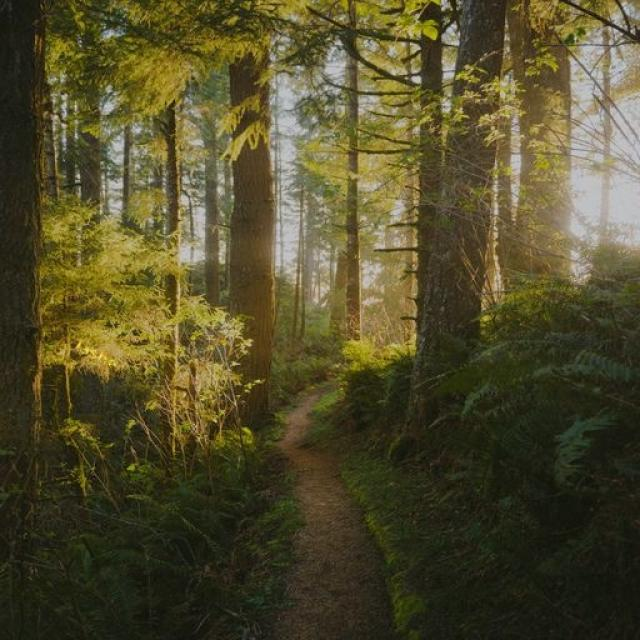watermark: (69, 336, 134, 376)
